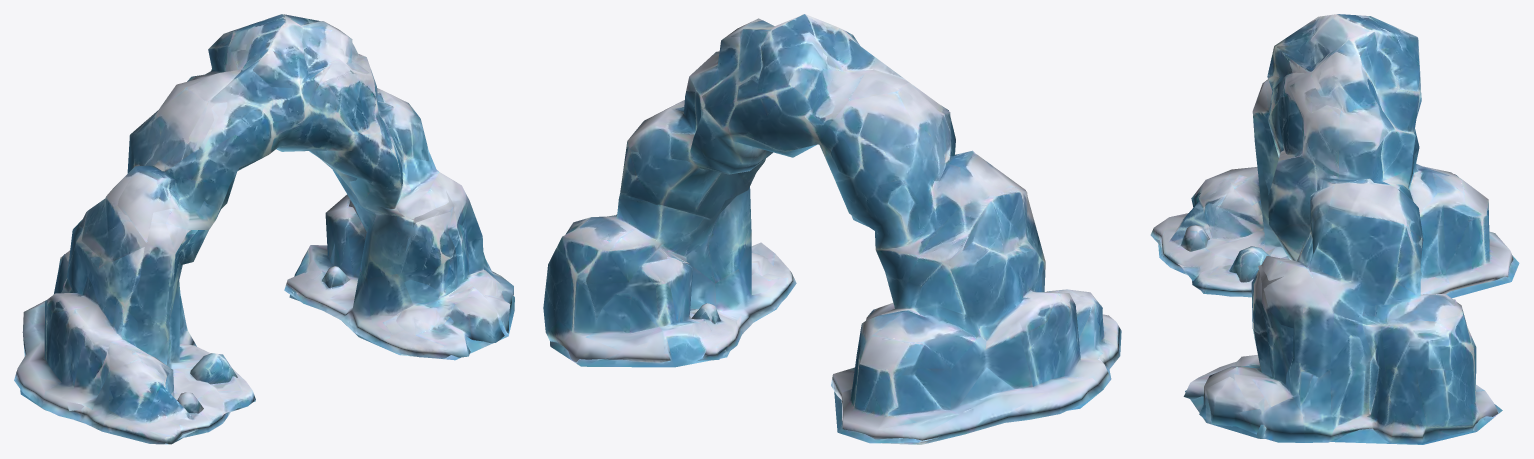
File: ice_arch_1.glb
The picture shows the model from 3 angles, left to right: view 1: azimuth 30°, elevation 25°; view 2: azimuth 150°, elevation 25°; view 3: azimuth 270°, elevation 25°; orthographic projection. The views are drawn at different scales.
Bounding box in the file's own units: 1 × 0.6386 × 0.6523.
Materials: 1 (1 with a texture image).
